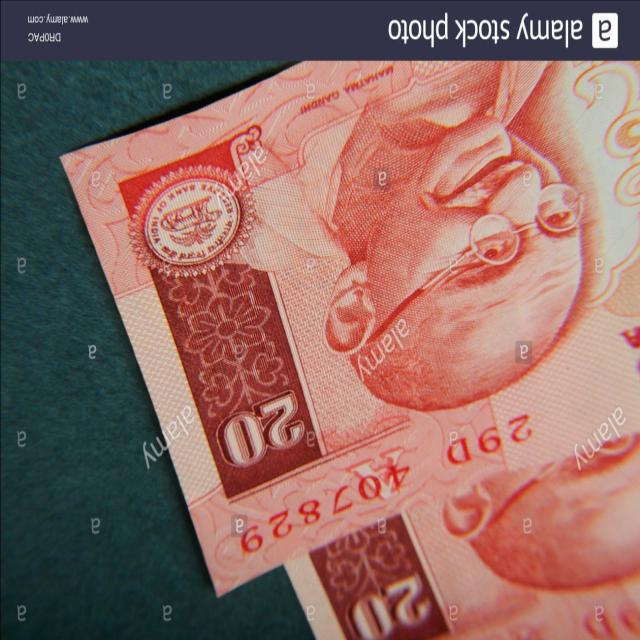20IndianRupees: (57, 63, 640, 594)
